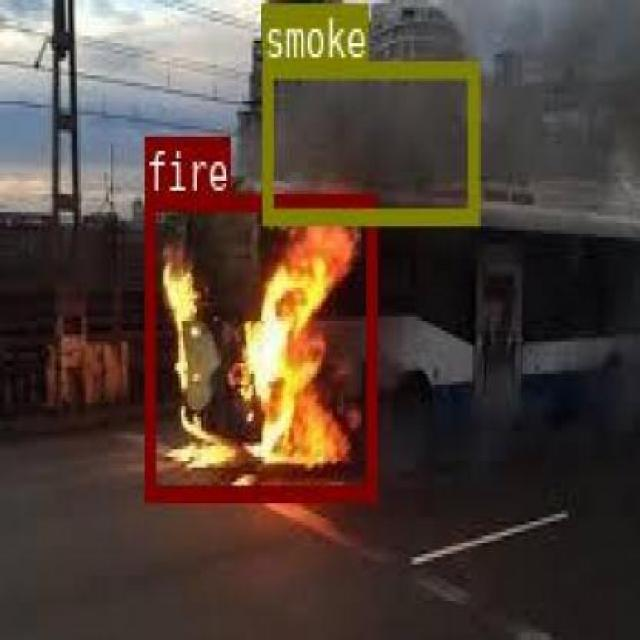Fire: (144, 191, 373, 498)
Smoke: (262, 58, 476, 222)
